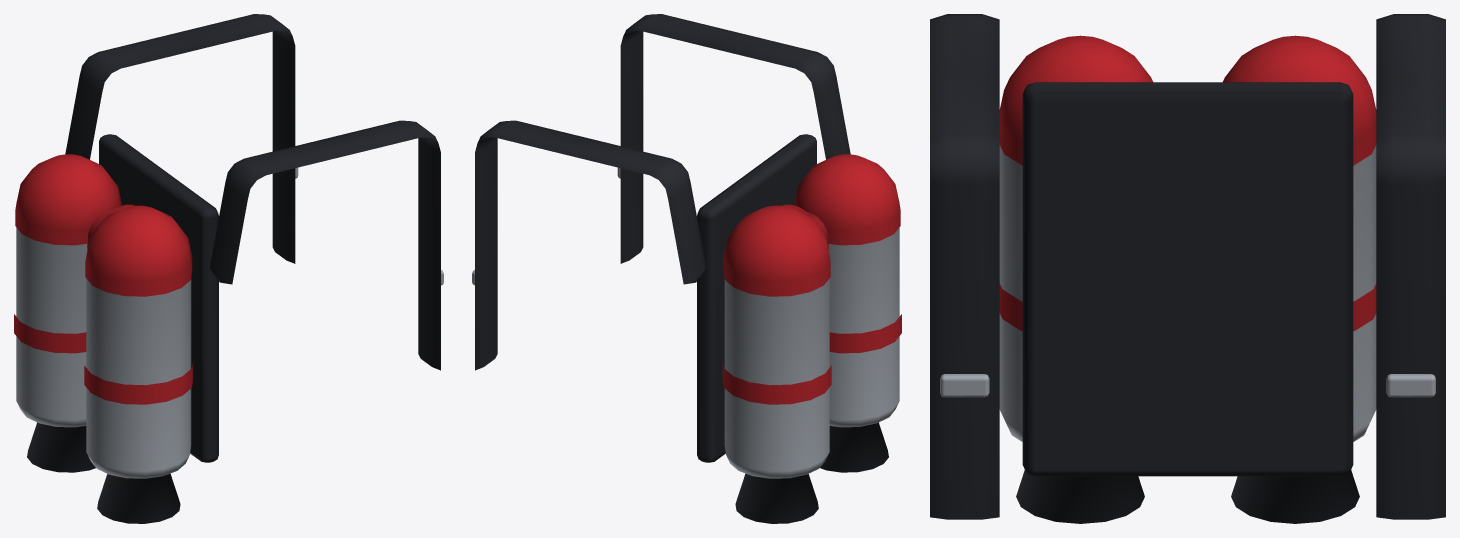
The model's file is acc_jetpack.glb.
3 renders of one model, left to right at view 1: azimuth 30°, elevation 25°; view 2: azimuth 150°, elevation 25°; view 3: azimuth 270°, elevation 25°, orthographic. The views are drawn at different scales.
Parts seen in each view (by area): view 1: acc_jetpack; view 2: acc_jetpack; view 3: acc_jetpack.
Boxes of the visible parts, <box> form: acc_jetpack: <box>14,14,443,523</box>; acc_jetpack: <box>472,14,901,523</box>; acc_jetpack: <box>930,14,1445,523</box>.
Size of the model in its own units: 0.6595 by 0.721 by 0.624.
